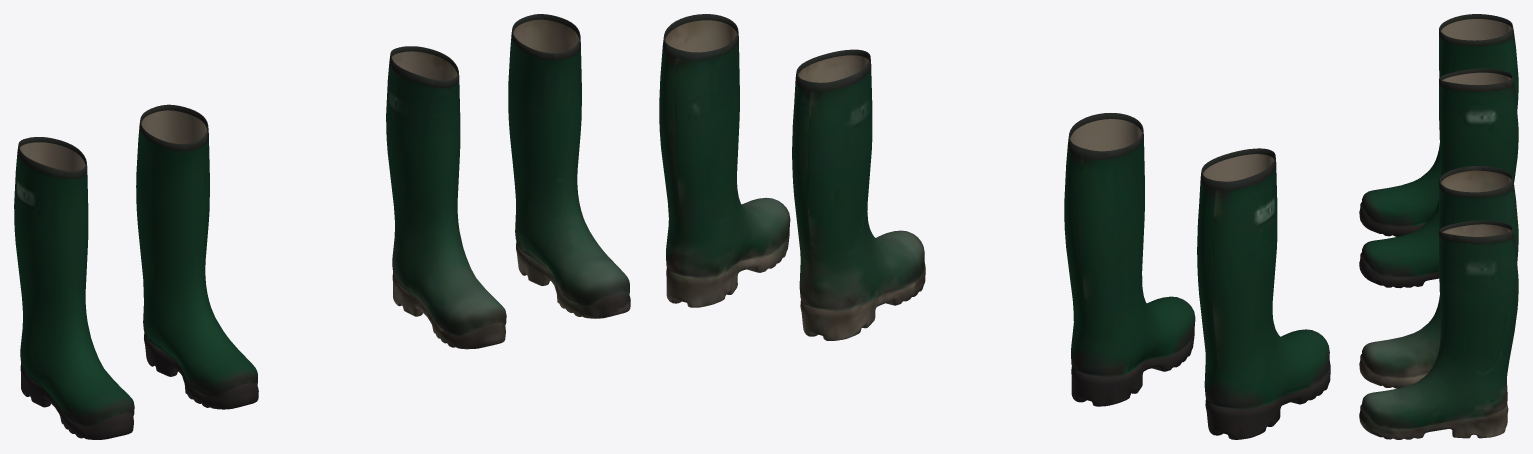
Rendered from rubber_boots.glb.
The picture shows the model from 3 angles, left to right: view 1: azimuth 30°, elevation 25°; view 2: azimuth 150°, elevation 25°; view 3: azimuth 270°, elevation 25°; orthographic projection. The views are drawn at different scales.
Visible parts, largest first — view 1: rubber_boots_l, rubber_boots_dirty_l; view 2: rubber_boots_l, rubber_boots_dirty_l; view 3: rubber_boots_dirty_l, rubber_boots_l.
Part boxes in pixels (bbox=[...]): rubber_boots_l: bbox=[14, 104, 258, 439]; rubber_boots_dirty_l: bbox=[386, 14, 630, 349]; rubber_boots_l: bbox=[1064, 113, 1330, 439]; rubber_boots_dirty_l: bbox=[659, 14, 925, 340]; rubber_boots_dirty_l: bbox=[1359, 165, 1518, 439]; rubber_boots_l: bbox=[1359, 14, 1518, 288].
Size of the model in its own units: 0.8905 by 0.3728 by 0.2662.
Materials: 2 (2 with a texture image).
